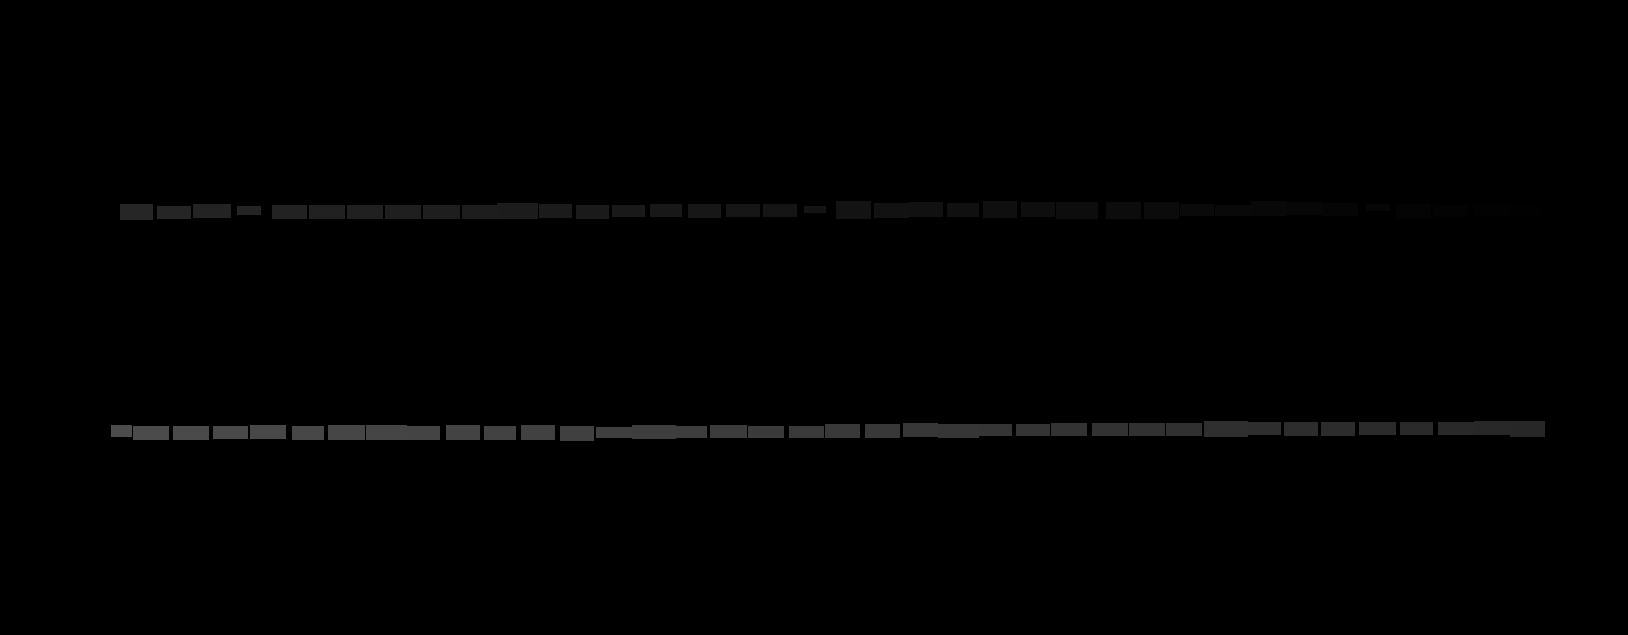light: (1056, 202, 1098, 219), (1204, 421, 1248, 437), (497, 203, 538, 219), (836, 201, 871, 219), (632, 425, 676, 439), (367, 425, 407, 440), (1144, 202, 1179, 219), (1106, 202, 1141, 219), (983, 201, 1017, 218), (938, 424, 979, 438), (1510, 421, 1545, 437), (328, 425, 365, 440), (1251, 201, 1286, 216), (462, 205, 499, 219), (423, 205, 460, 219), (193, 204, 230, 218), (120, 204, 153, 220), (1396, 204, 1431, 219), (1021, 202, 1055, 217), (908, 202, 943, 217), (874, 203, 908, 218), (560, 426, 594, 441), (521, 425, 555, 440), (347, 205, 383, 219), (1474, 421, 1511, 435), (133, 426, 169, 440), (446, 425, 480, 440), (385, 205, 420, 219), (309, 205, 345, 219), (272, 205, 307, 219), (865, 424, 900, 438), (250, 425, 286, 439), (173, 426, 209, 440), (1359, 422, 1396, 435), (1321, 422, 1355, 436), (903, 423, 938, 437), (825, 424, 860, 438), (406, 426, 440, 440), (1322, 203, 1358, 216), (1438, 422, 1474, 435), (1166, 423, 1202, 436), (1129, 423, 1165, 436), (1051, 423, 1087, 436), (710, 425, 747, 438), (576, 205, 609, 219), (539, 204, 572, 218), (1284, 422, 1318, 436), (1286, 202, 1322, 215), (1092, 423, 1128, 436), (213, 426, 248, 439), (947, 203, 979, 217), (688, 204, 721, 218), (484, 426, 516, 440), (292, 426, 324, 440), (763, 204, 797, 217), (726, 204, 760, 217), (157, 206, 191, 219), (1247, 422, 1281, 435), (748, 426, 784, 438), (1400, 422, 1433, 435), (1507, 205, 1542, 217), (1433, 205, 1468, 217), (789, 426, 824, 438), (650, 204, 682, 217), (1474, 205, 1509, 217), (978, 424, 1012, 436), (673, 426, 707, 438), (596, 427, 633, 438), (1181, 204, 1214, 216), (612, 205, 645, 217), (1016, 424, 1050, 436), (1215, 205, 1251, 216), (111, 425, 132, 437), (237, 206, 261, 215), (1366, 204, 1390, 211), (804, 206, 826, 213)
